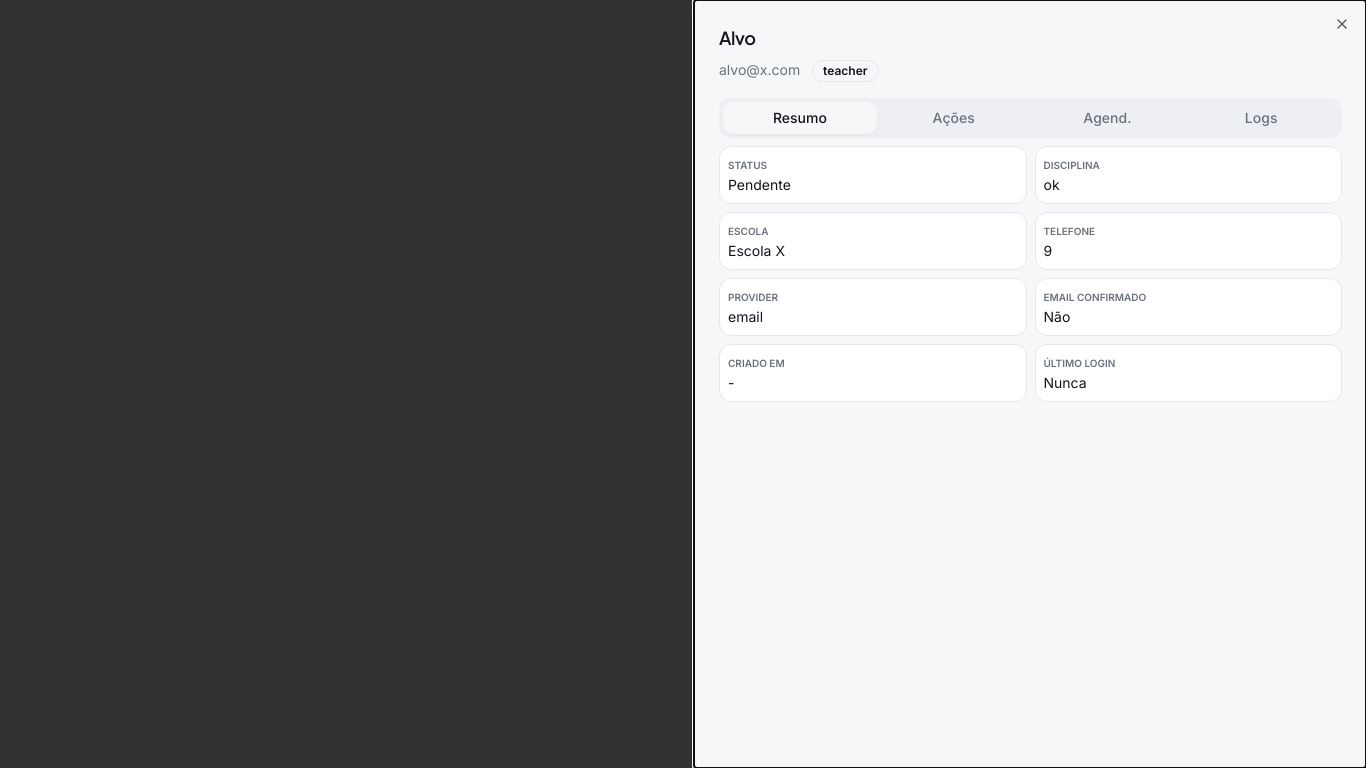
Test case: ReasonConfirmDialog — validação de motivo (0 / 2 / 3+ chars) › motivo longo é repassado verbatim (após trim) à RPC
Later steps or results of the test are not shown.
Check: the text "alvo@x.com teacher" is shown, box [719, 60, 878, 82]
Click the tab "Ações". click: (954, 118)
box: [877, 102, 1031, 134]
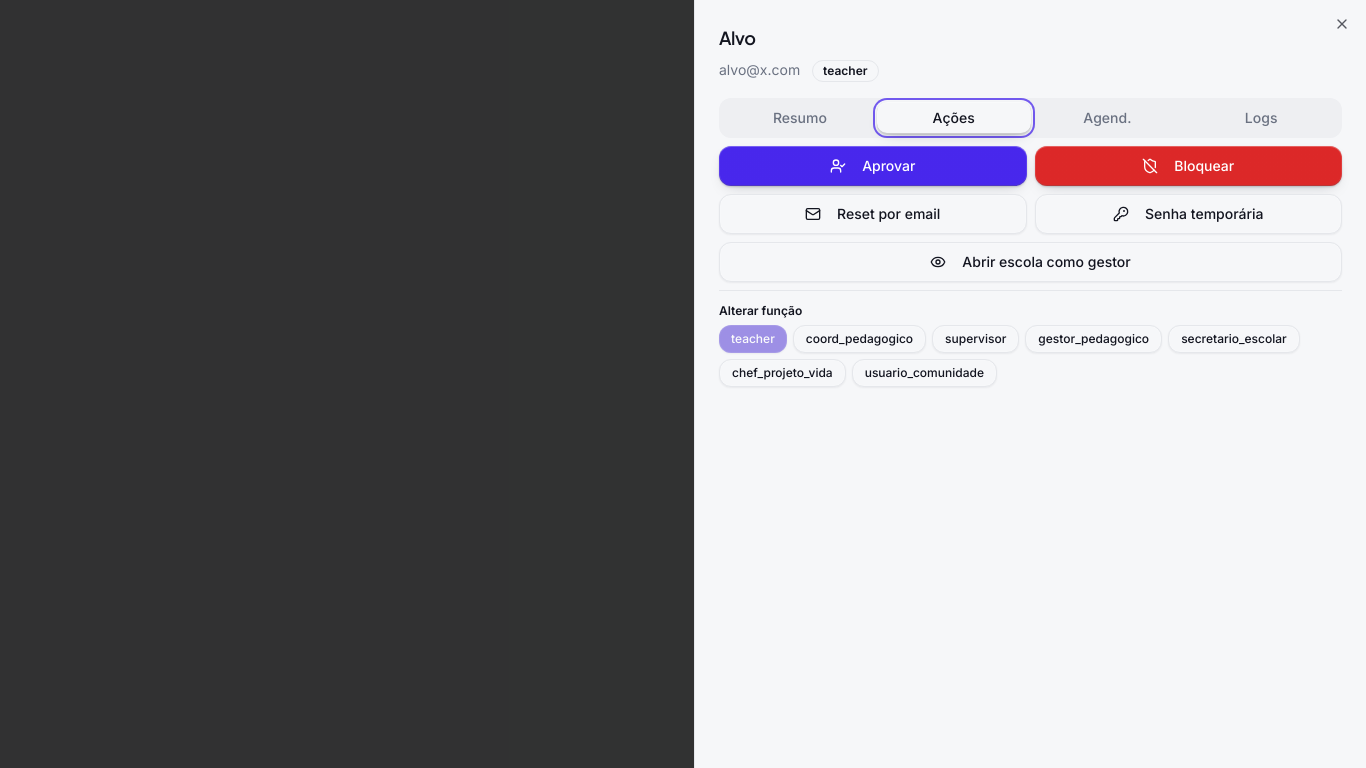
Check: the panel named "Ações" is shown, box [719, 146, 1342, 387]
